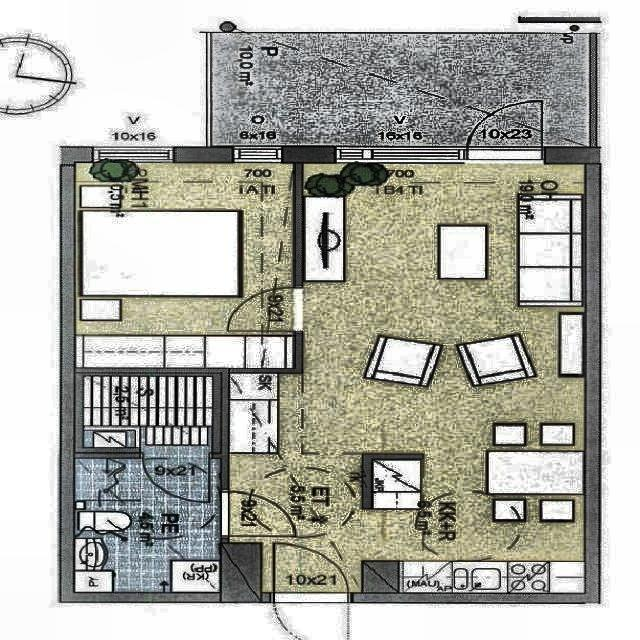room: (75, 162, 295, 368), (75, 373, 221, 452)
